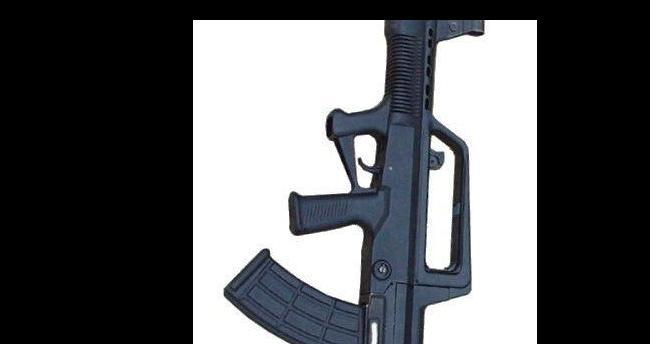larga: (222, 20, 486, 344)
